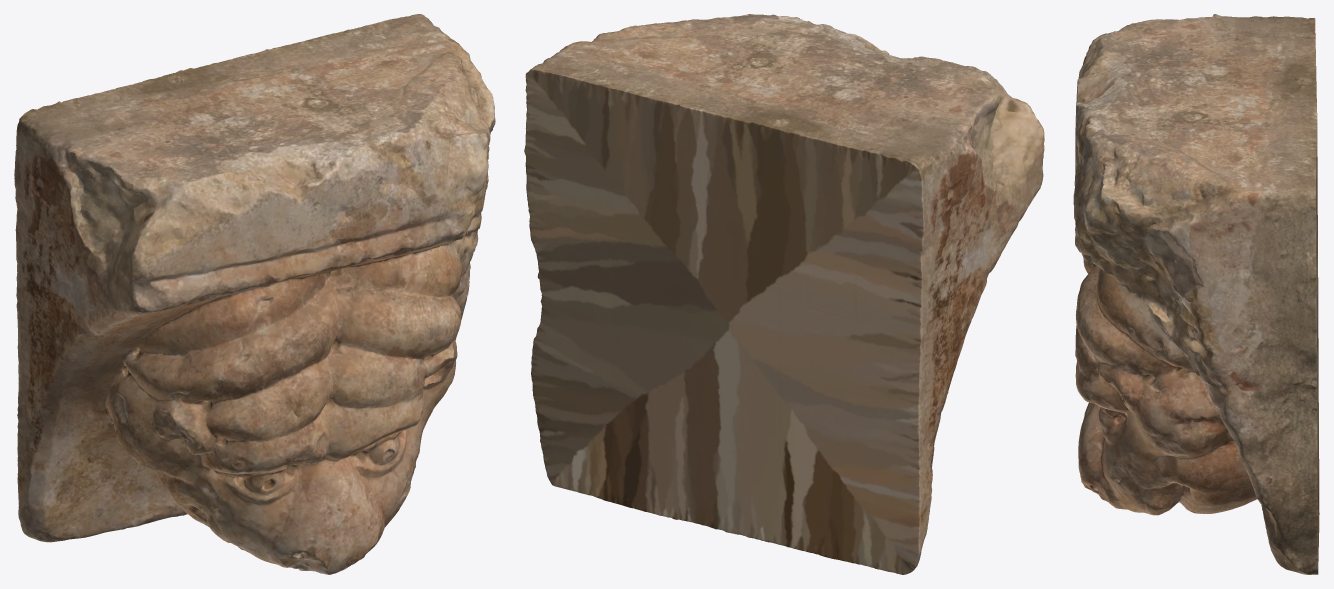
File: preview.glb
The picture shows the model from 3 angles, left to right: view 1: azimuth 30°, elevation 25°; view 2: azimuth 150°, elevation 25°; view 3: azimuth 270°, elevation 25°; orthographic projection. The views are drawn at different scales.
Parts seen in each view (by area): view 1: ADVIMG_25_120_599_Corble_n3d; view 2: ADVIMG_25_120_599_Corble_n3d; view 3: ADVIMG_25_120_599_Corble_n3d.
Boxes of the visible parts, x1,y1,x2,y2 form: ADVIMG_25_120_599_Corble_n3d: (14, 14, 495, 574); ADVIMG_25_120_599_Corble_n3d: (524, 14, 1044, 574); ADVIMG_25_120_599_Corble_n3d: (1073, 14, 1319, 574).
Bounding box in the file's own units: 0.1663 × 0.1648 × 0.0918.
1 material, 1 textured.
